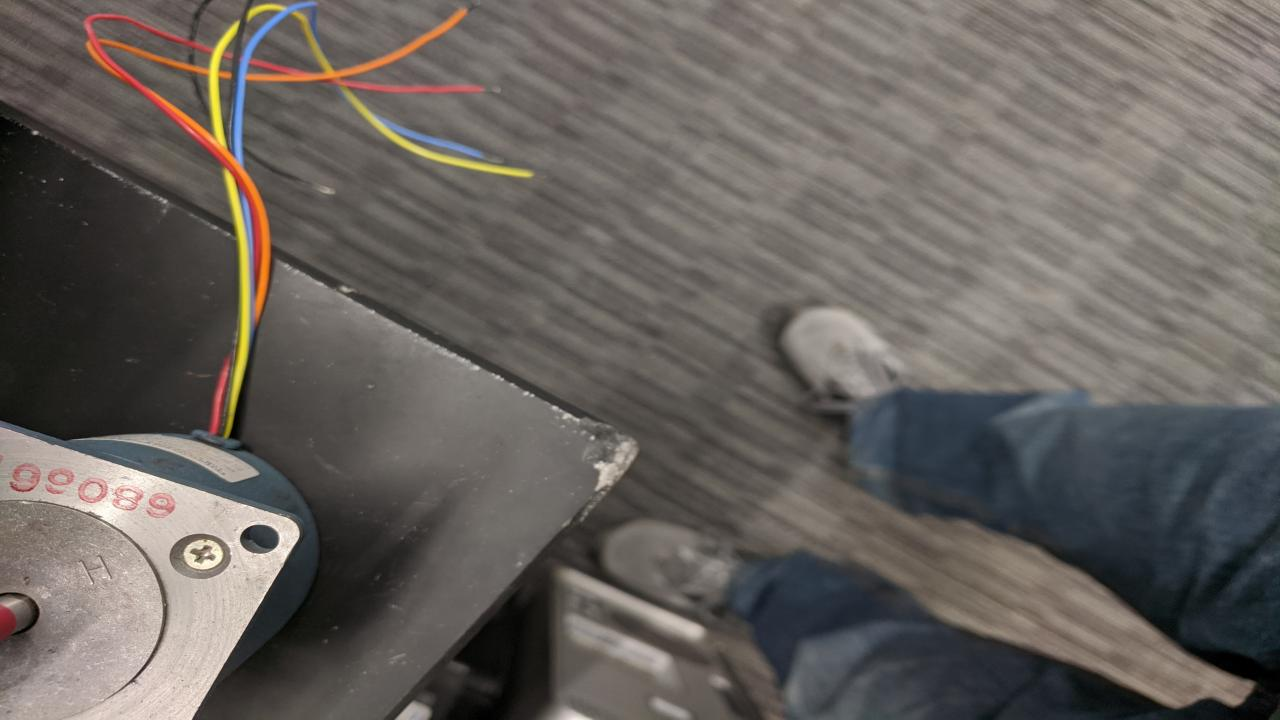CRS: (180, 538, 230, 570)
